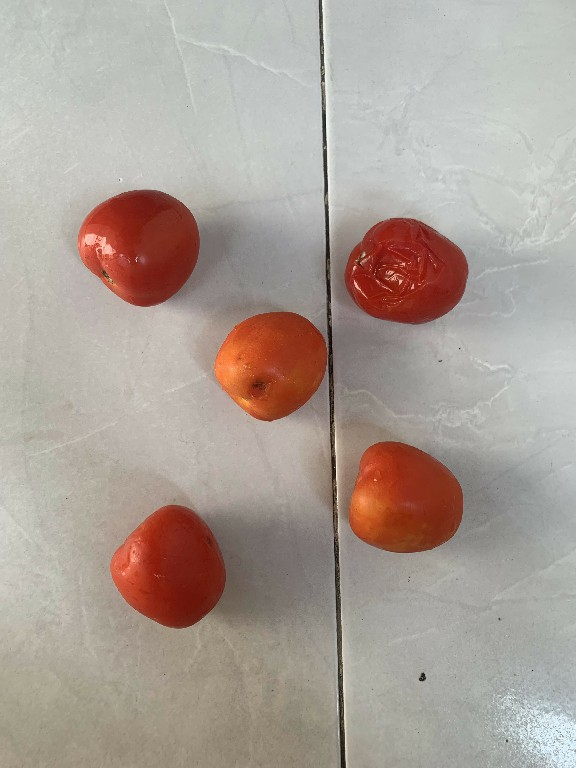NG: (339, 208, 468, 327), (213, 307, 332, 425)
OK: (103, 499, 230, 635), (76, 187, 202, 310), (343, 439, 470, 552)
